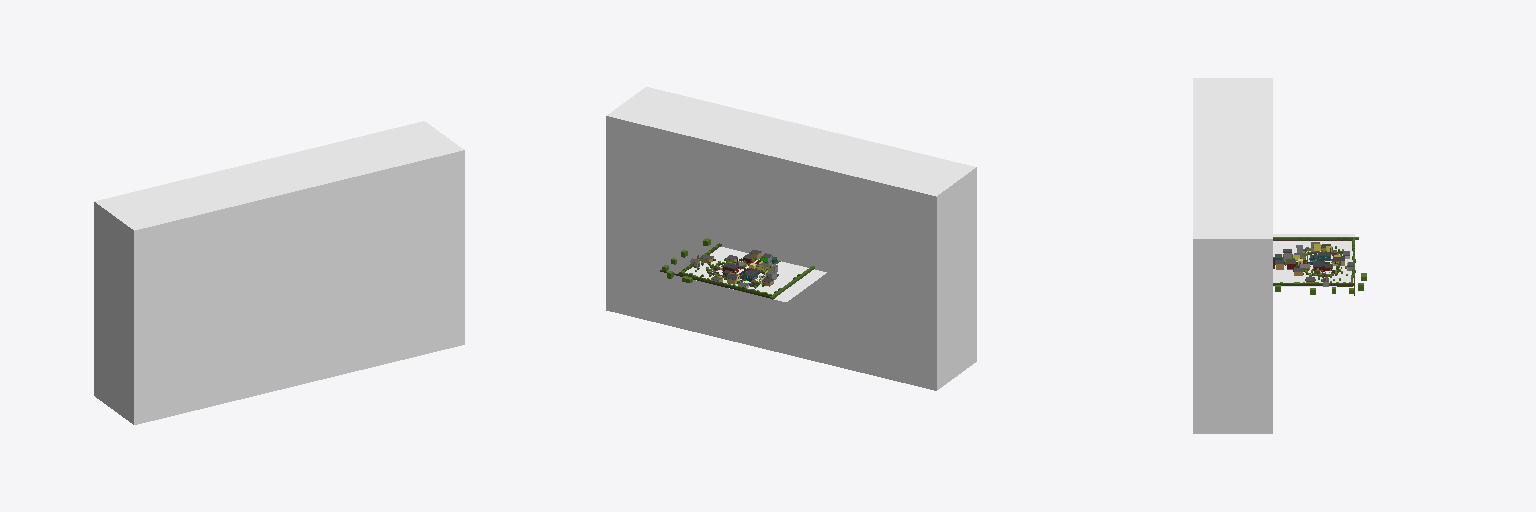
The model's file is Newtown.obj.
3 renders of one model, left to right at view 1: azimuth 30°, elevation 25°; view 2: azimuth 150°, elevation 25°; view 3: azimuth 270°, elevation 25°, orthographic.
Bounding box in the file's own units: 5148 × 2899 × 2348.